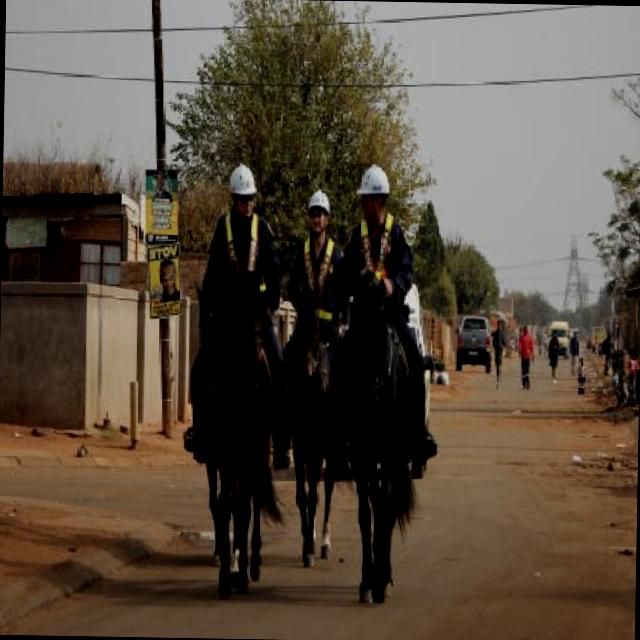Person: (189, 168, 280, 606), (335, 161, 440, 461), (283, 187, 352, 451), (520, 322, 536, 390), (491, 322, 506, 387), (160, 262, 182, 301), (600, 330, 616, 380), (548, 332, 564, 379), (568, 330, 580, 372), (150, 177, 170, 200), (577, 357, 589, 394), (626, 352, 636, 396), (615, 376, 628, 398), (541, 330, 547, 355), (535, 330, 541, 353), (594, 336, 597, 354)
